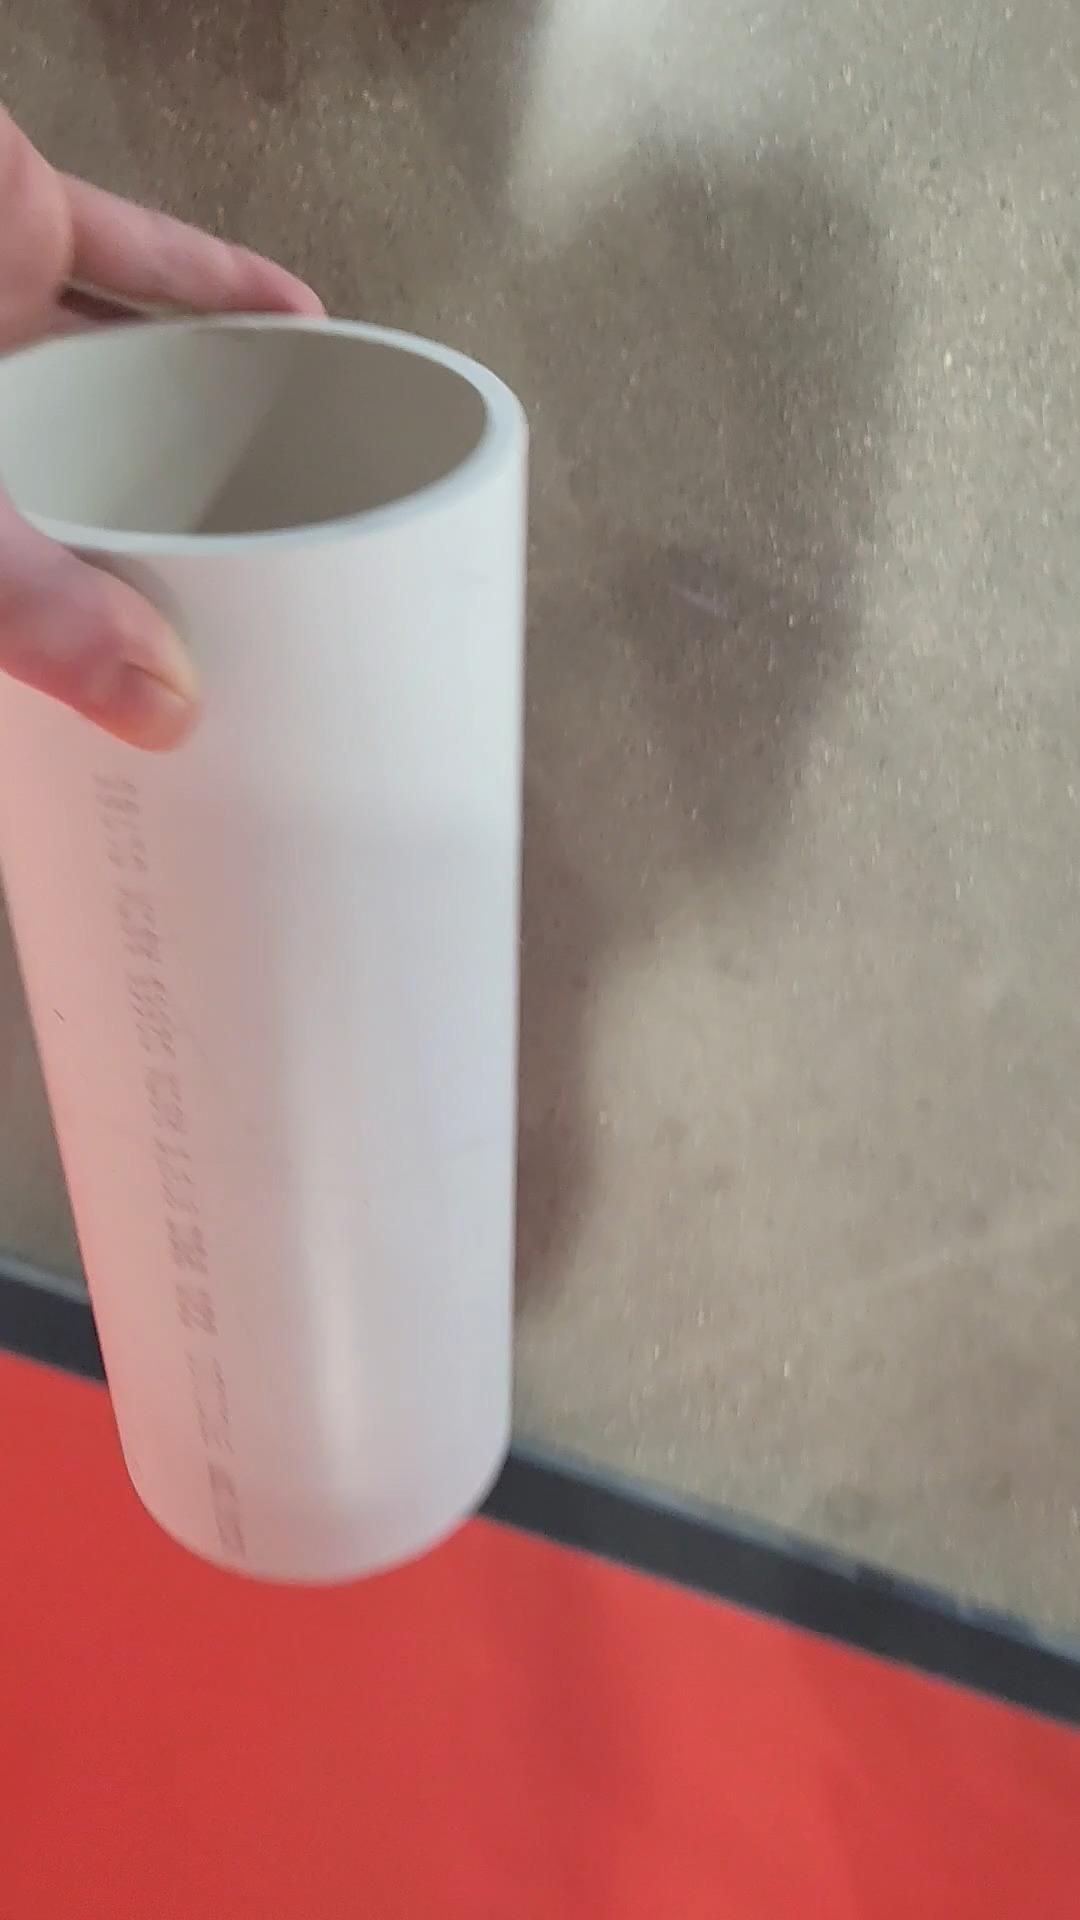coral: (0, 294, 537, 1580)
